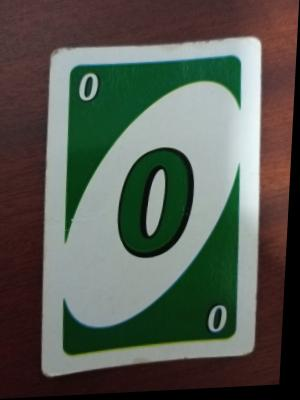green: (60, 53, 255, 141)
num_0: (105, 142, 212, 277), (70, 68, 106, 117), (207, 296, 241, 340)
